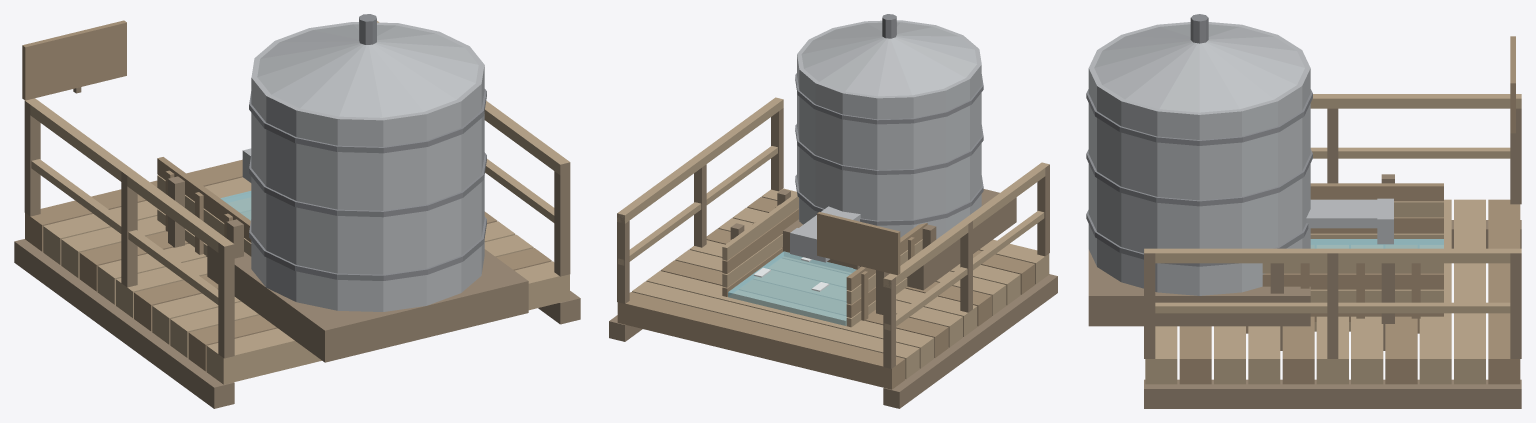
The model's file is gorge_flume.glb.
3 views of the same model, side by side, from view 1: azimuth 30°, elevation 25°; view 2: azimuth 150°, elevation 25°; view 3: azimuth 270°, elevation 25° (orthographic). The views are drawn at different scales.
Visible parts, largest first — view 1: fl_head_mesh, fl_trough_mesh, fl_water_mesh; view 2: fl_head_mesh, fl_trough_mesh, fl_water_mesh; view 3: fl_head_mesh, fl_trough_mesh, fl_water_mesh.
Boxes of the visible parts, x1,y1,x2,y2 form: fl_head_mesh: (14,14,580,408); fl_trough_mesh: (157,157,251,258); fl_water_mesh: (220,191,251,220); fl_head_mesh: (609,14,1057,408); fl_trough_mesh: (722,189,936,327); fl_water_mesh: (728,251,856,325); fl_head_mesh: (1086,14,1521,408); fl_trough_mesh: (1246,174,1443,350); fl_water_mesh: (1310,239,1443,248).
Bounding box in the file's own units: 3.6 × 3.05 × 3.92.
